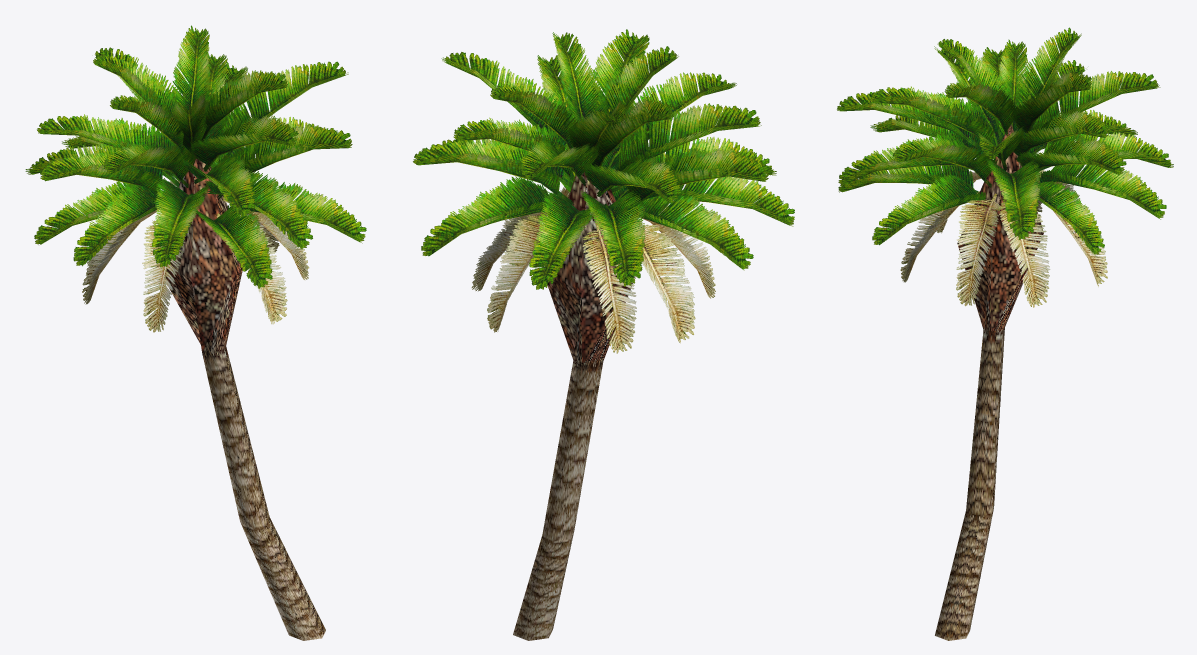
Rendered from tropic_palm_v2.glb.
The picture shows the model from 3 angles, left to right: view 1: azimuth 30°, elevation 25°; view 2: azimuth 150°, elevation 25°; view 3: azimuth 270°, elevation 25°; orthographic projection. The views are drawn at different scales.
Visible parts, largest first — view 1: tree_cretan_date_palm_07; view 2: tree_cretan_date_palm_07; view 3: tree_cretan_date_palm_07.
Part boxes in pixels (<box>): tree_cretan_date_palm_07: <box>25,25,366,640</box>; tree_cretan_date_palm_07: <box>413,29,794,640</box>; tree_cretan_date_palm_07: <box>837,27,1173,640</box>.
Bounding box in the file's own units: 9.14 × 15.91 × 9.21.
1 material, 1 textured.
